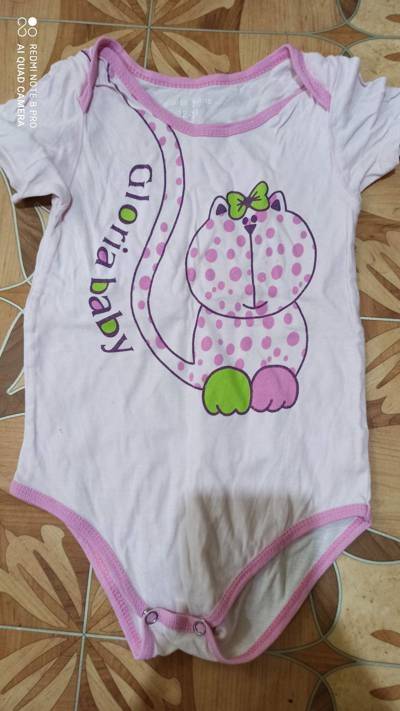Body: (7, 36, 398, 659)
